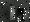person: (19, 6, 28, 21), (11, 7, 16, 21)
